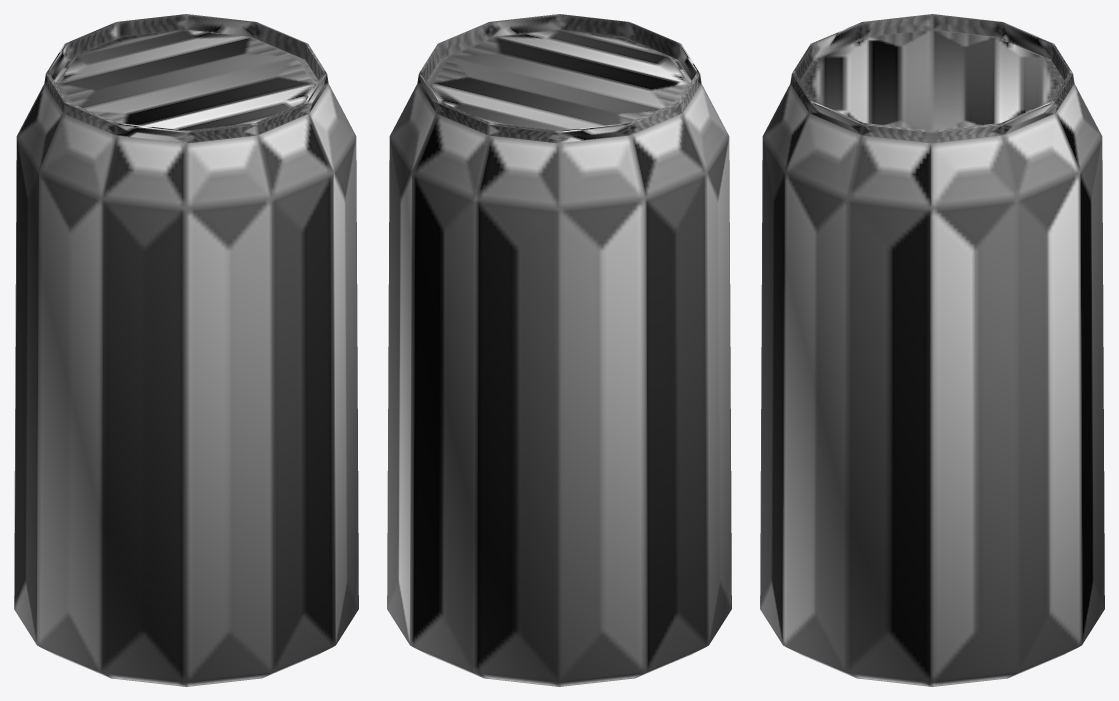
Rendered from other_sodacan01.dae.
The picture shows the model from 3 angles, left to right: view 1: azimuth 30°, elevation 25°; view 2: azimuth 150°, elevation 25°; view 3: azimuth 270°, elevation 25°; orthographic projection.
Visible parts, largest first — view 1: sodacan; view 2: sodacan; view 3: sodacan.
Boxes of the visible parts, bbox=[...] form: sodacan: bbox=[14, 14, 358, 686]; sodacan: bbox=[387, 14, 731, 686]; sodacan: bbox=[760, 14, 1104, 686].
Size of what is drawn, in the model's own units: 0.065 by 0.1145 by 0.065.
